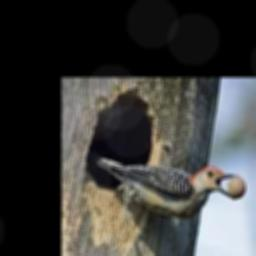Woodpecker: (96, 156, 240, 219)
